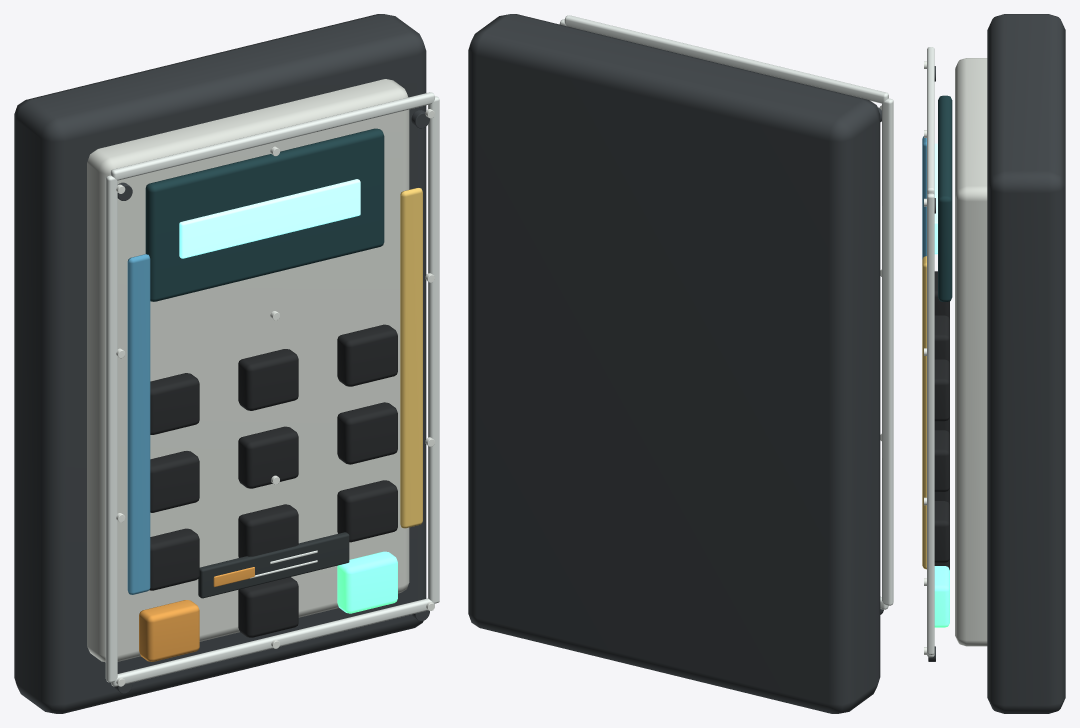
File: hp_terminal_code_keypad.glb
The picture shows the model from 3 angles, left to right: view 1: azimuth 30°, elevation 25°; view 2: azimuth 150°, elevation 25°; view 3: azimuth 270°, elevation 25°; orthographic projection. The views are drawn at different scales.
Visible parts, largest first — view 1: terminal_code_keypad_face_panel, terminal_code_keypad_backplate, terminal_code_keypad_display_glass, terminal_code_keypad_keypad_blue_identity_art_color_block, terminal_code_keypad_keypad_gold_identity_art_color_block, terminal_code_keypad_display_digits, terminal_code_keypad_face_trim_trim_left, terminal_code_keypad_face_trim_trim_right, terminal_code_keypad_serial_label_plate_body, terminal_code_keypad_face_trim_trim_top, terminal_code_keypad_face_trim_trim_bottom, terminal_code_keypad_key_2_3 (+11 smaller); view 2: terminal_code_keypad_backplate, terminal_code_keypad_face_trim_trim_left, terminal_code_keypad_face_trim_trim_top; view 3: terminal_code_keypad_backplate, terminal_code_keypad_face_panel, terminal_code_keypad_face_trim_trim_right, terminal_code_keypad_display_glass, terminal_code_keypad_keypad_gold_identity_art_color_block, terminal_code_keypad_face_trim_trim_top, terminal_code_keypad_key_1_3, terminal_code_keypad_key_2_3, terminal_code_keypad_key_3_3, terminal_code_keypad_key_enter, terminal_code_keypad_key_1_2, terminal_code_keypad_keypad_blue_identity_art_color_block (+2 smaller).
Boxes of the visible parts, x1,y1,x2,y2 form: terminal_code_keypad_face_panel: (87,79,409,662); terminal_code_keypad_backplate: (14,14,426,713); terminal_code_keypad_display_glass: (145,128,384,301); terminal_code_keypad_keypad_blue_identity_art_color_block: (127,254,150,594); terminal_code_keypad_keypad_gold_identity_art_color_block: (400,188,422,528); terminal_code_keypad_display_digits: (179,179,360,258); terminal_code_keypad_face_trim_trim_left: (105,175,117,682); terminal_code_keypad_face_trim_trim_right: (428,96,439,603); terminal_code_keypad_serial_label_plate_body: (198,532,349,598); terminal_code_keypad_face_trim_trim_top: (110,92,434,180); terminal_code_keypad_face_trim_trim_bottom: (111,598,434,686); terminal_code_keypad_key_2_3: (337,402,397,464); terminal_code_keypad_backplate: (468,14,880,713); terminal_code_keypad_face_trim_trim_left: (882,98,893,605); terminal_code_keypad_face_trim_trim_top: (564,15,888,103); terminal_code_keypad_backplate: (987,14,1065,713); terminal_code_keypad_face_panel: (955,58,987,646); terminal_code_keypad_face_trim_trim_right: (927,193,934,654); terminal_code_keypad_display_glass: (938,95,952,301); terminal_code_keypad_keypad_gold_identity_art_color_block: (922,256,926,569); terminal_code_keypad_face_trim_trim_top: (927,47,934,194); terminal_code_keypad_key_1_3: (934,359,949,421); terminal_code_keypad_key_2_3: (934,430,949,491); terminal_code_keypad_key_3_3: (934,501,949,562); terminal_code_keypad_key_enter: (934,566,949,627); terminal_code_keypad_key_1_2: (934,315,949,363); terminal_code_keypad_keypad_blue_identity_art_color_block: (922,136,926,259).
Bounding box in the file's own units: 0.62 × 0.92 × 0.22.
